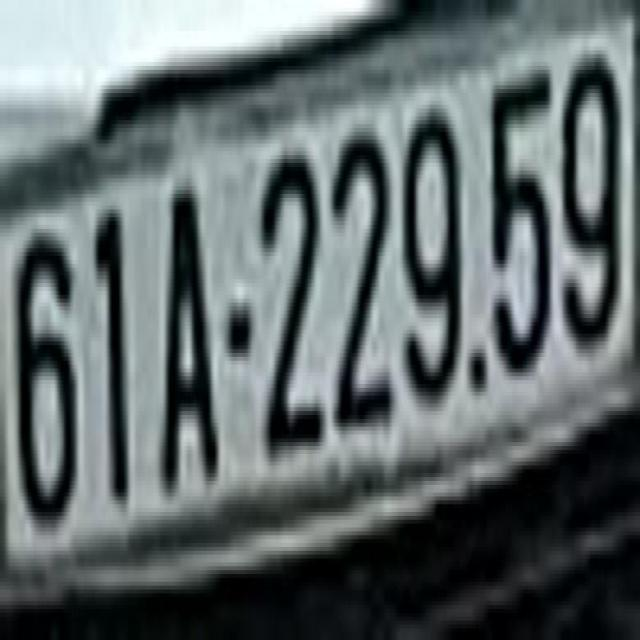1: (94, 198, 136, 516)
2: (260, 147, 322, 450), (334, 136, 392, 423)
5: (488, 73, 557, 396)
6: (16, 209, 78, 543)
9: (402, 90, 464, 403), (562, 47, 622, 346)
A: (151, 163, 221, 497)
